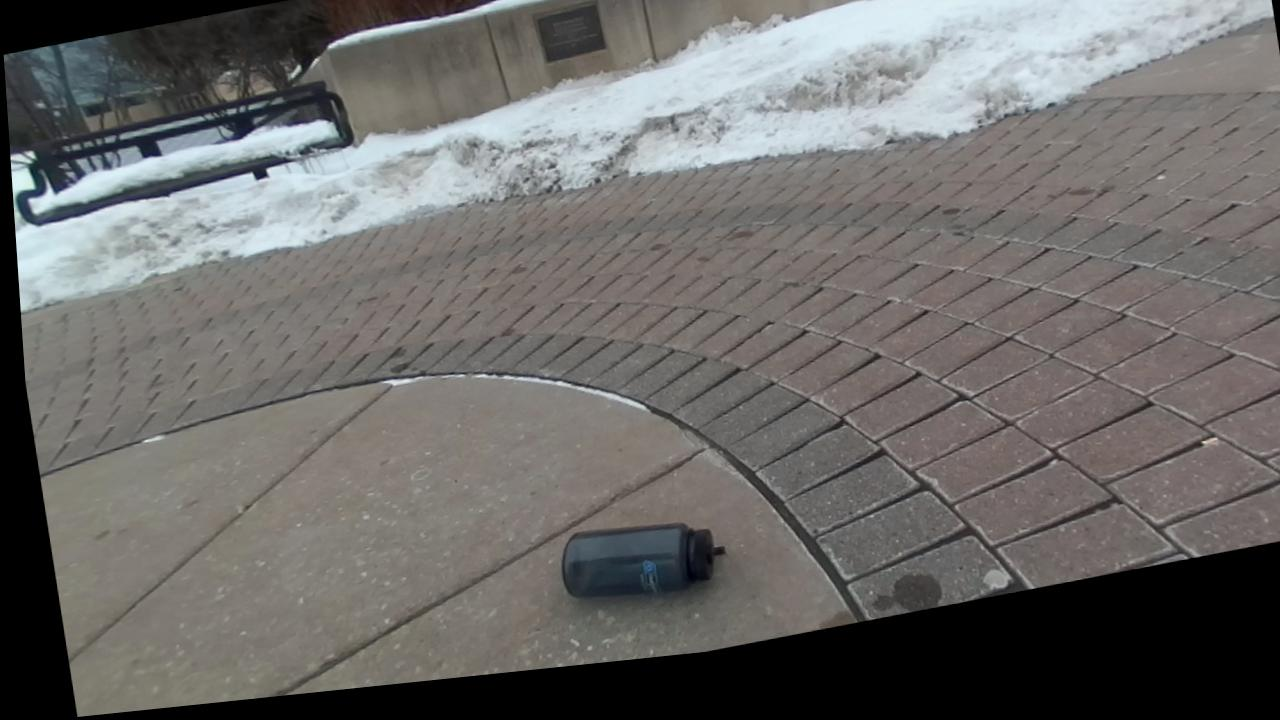bottle: (561, 523, 725, 596)
